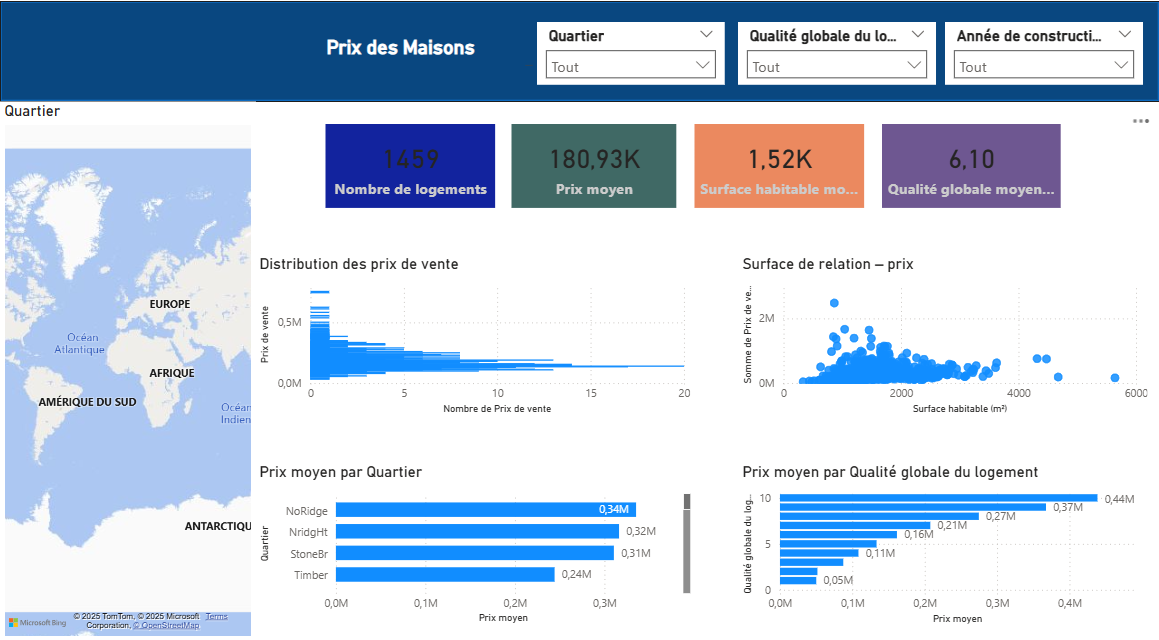

The dashboard page shown, as its layout file describes it:
{"tool":"powerbi","page":{"name":"Page 1","canvas":[1280,720],"ordinal":0},"visuals":[{"type":"card","fields":{"Values":["Prix_de_maisons.Nombre de logements"]},"box":[359.5,149.1,187.2,92.8],"z":0},{"type":"card","fields":{"Values":["Prix_de_maisons.Prix moyen"]},"box":[564.9,149.1,182.2,92.8],"z":1000},{"type":"card","fields":{"Values":["Prix_de_maisons.Surface habitable moyenne"]},"box":[767,149.1,187.2,92.8],"z":2000},{"type":"card","fields":{"Values":["Avg(donnees_powerbi (1).Qualité globale du logement)"]},"box":[974,149.1,197.1,92.8],"z":3000},{"type":"clusteredBarChart","fields":{"Category":["donnees_powerbi (1).Quartier"],"Y":["Prix_de_maisons.Prix moyen"]},"box":[281.6,523.5,485.7,181.4],"z":4000},{"type":"clusteredBarChart","fields":{"Category":["donnees_powerbi (1).Qualité globale du logement"],"Y":["Prix_de_maisons.Prix moyen"]},"box":[815,523.4,457.2,182.2],"z":5000},{"type":"clusteredBarChart","title":"Distribution des prix de vente","fields":{"Category":["donnees_powerbi (1).Prix de vente"],"Y":["CountNonNull(donnees_powerbi (1).Prix de vente)"]},"box":[281.6,293.2,485.3,180.6],"z":6000},{"type":"scatterChart","title":"Surface de relation – prix","fields":{"Y":["Sum(Prix_de_maisons.Prix de vente)"],"X":["Prix_de_maisons.Surface habitable (m²)"]},"box":[815,293.2,457.2,180.6],"z":7000},{"type":"shape","box":[0,13.3,1280.5,111],"z":8000},{"type":"textbox","title":"Prix des Maisons","box":[291,52,301.5,38],"z":9000},{"type":"slicer","fields":{"Values":["donnees_powerbi (1).Quartier"]},"box":[593,36.4,207.1,69.6],"z":10000},{"type":"slicer","fields":{"Values":["donnees_powerbi (1).Qualité globale du logement"]},"box":[815,36.4,218.7,69.6],"z":11000},{"type":"slicer","fields":{"Values":["donnees_powerbi (1).Année de construction"]},"box":[1043.6,36.4,218.7,69.6],"z":12000},{"type":"map","fields":{"Category":["Prix_de_maisons.Quartier"]},"box":[0,125,281.7,595],"z":12001}]}

Visuals, with their boxes in screenshot pixels (x1, y1, x2, y2), scaled from the page's 1280x720 canvas onto the 1159x640 screenshot:
card - Prix_de_maisons.Nombre de logements: select_region(326, 133, 495, 215)
card - Prix_de_maisons.Prix moyen: select_region(511, 133, 676, 215)
card - Prix_de_maisons.Surface habitable moyenne: select_region(694, 133, 864, 215)
card - Avg(donnees_powerbi (1).Qualité globale du logement): select_region(882, 133, 1060, 215)
clusteredBarChart - donnees_powerbi (1).Quartier x Prix_de_maisons.Prix moyen: select_region(255, 465, 695, 627)
clusteredBarChart - donnees_powerbi (1).Qualité globale du logement x Prix_de_maisons.Prix moyen: select_region(738, 465, 1152, 627)
"Distribution des prix de vente" clusteredBarChart: select_region(255, 261, 694, 421)
"Surface de relation – prix" scatterChart: select_region(738, 261, 1152, 421)
shape: select_region(0, 12, 1158, 110)
"Prix des Maisons" textbox: select_region(263, 46, 536, 80)
slicer - donnees_powerbi (1).Quartier: select_region(537, 32, 724, 94)
slicer - donnees_powerbi (1).Qualité globale du logement: select_region(738, 32, 936, 94)
slicer - donnees_powerbi (1).Année de construction: select_region(945, 32, 1143, 94)
map - Prix_de_maisons.Quartier: select_region(0, 111, 255, 639)
